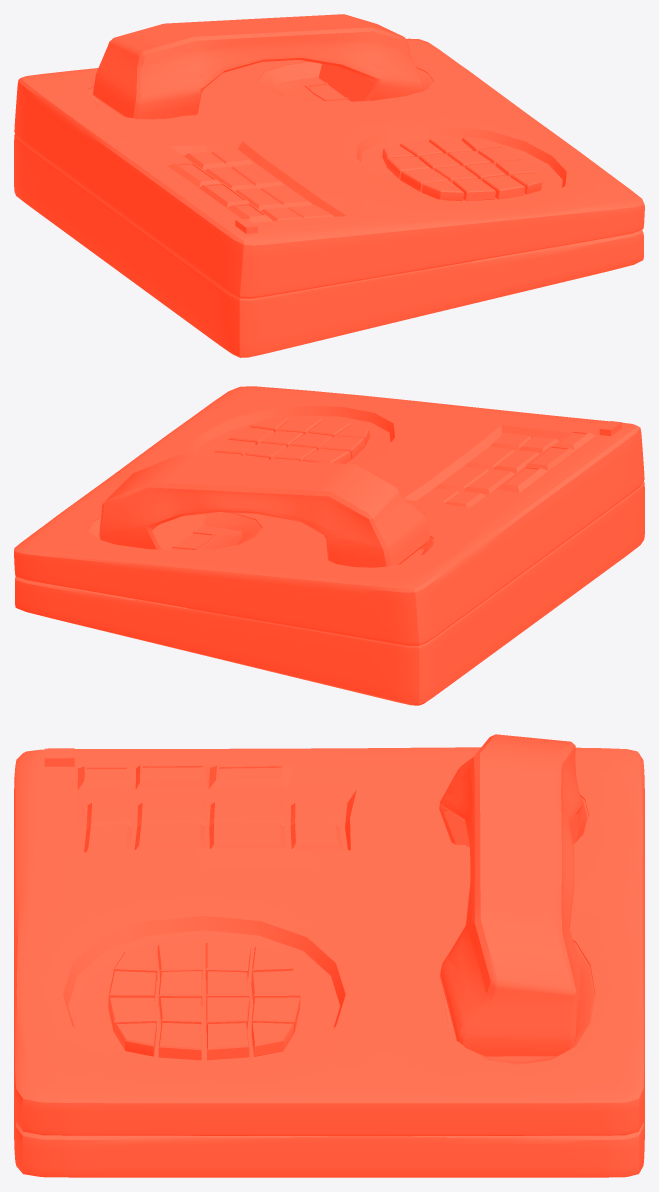
File: Telefon Interactable.fbx
The picture shows the model from 3 angles, top to bottom: view 1: azimuth 30°, elevation 25°; view 2: azimuth 150°, elevation 25°; view 3: azimuth 270°, elevation 25°; orthographic projection. The views are drawn at different scales.
Visible parts, largest first — view 1: Cube; view 2: Cube; view 3: Cube.
Part boxes in pixels (x1=…): Cube: x1=14, y1=14, x2=644, y2=357; Cube: x1=14, y1=386, x2=644, y2=705; Cube: x1=14, y1=734, x2=644, y2=1177.
Size of the model in its own units: 200 by 79.82 by 193.
